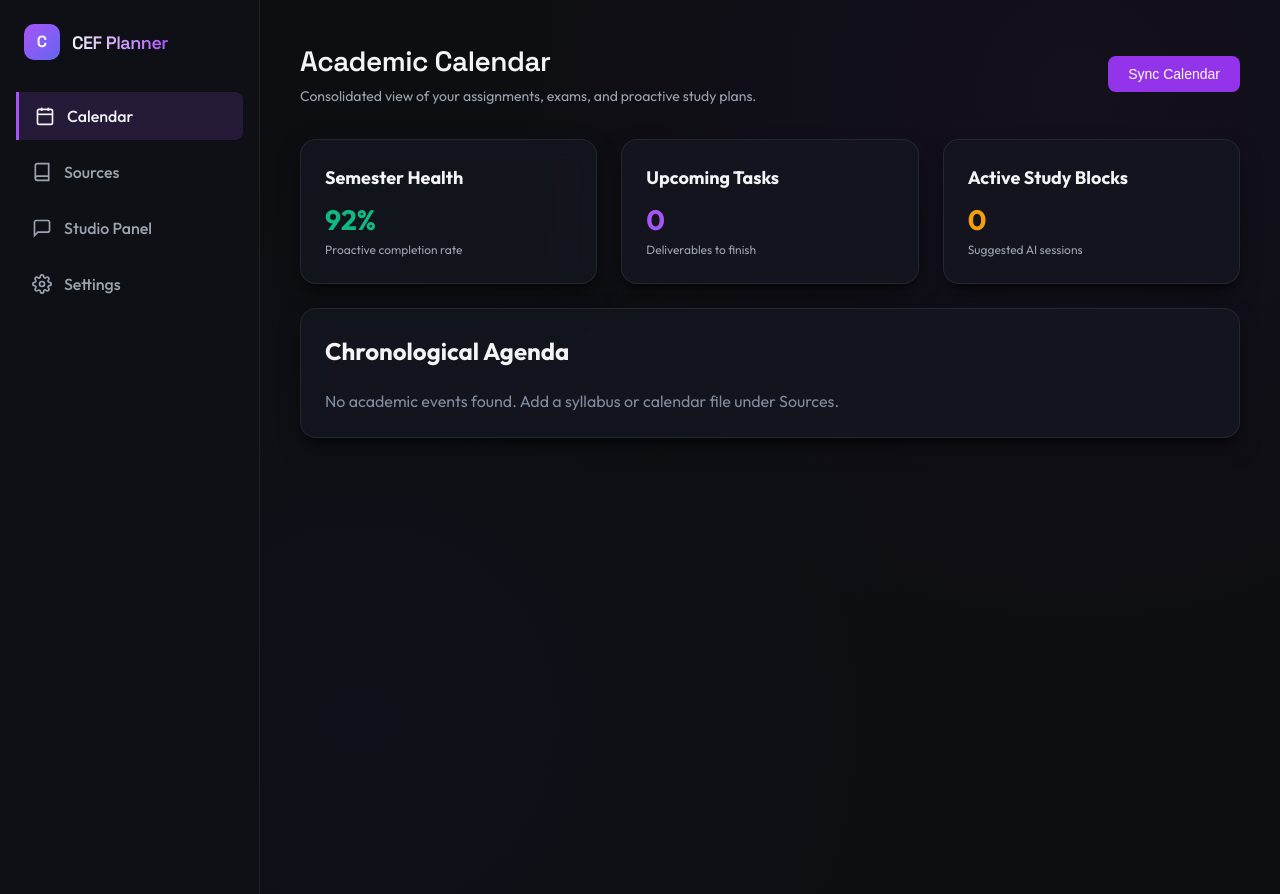
Create calendar modal — open state › has no axe violations
Expected: the heading "Academic Calendar" is shown, x1=300 y1=43 x2=551 y2=79
Click the button "Settings": (130, 284) x1=16 y1=260 x2=243 y2=308
(page scrolled)
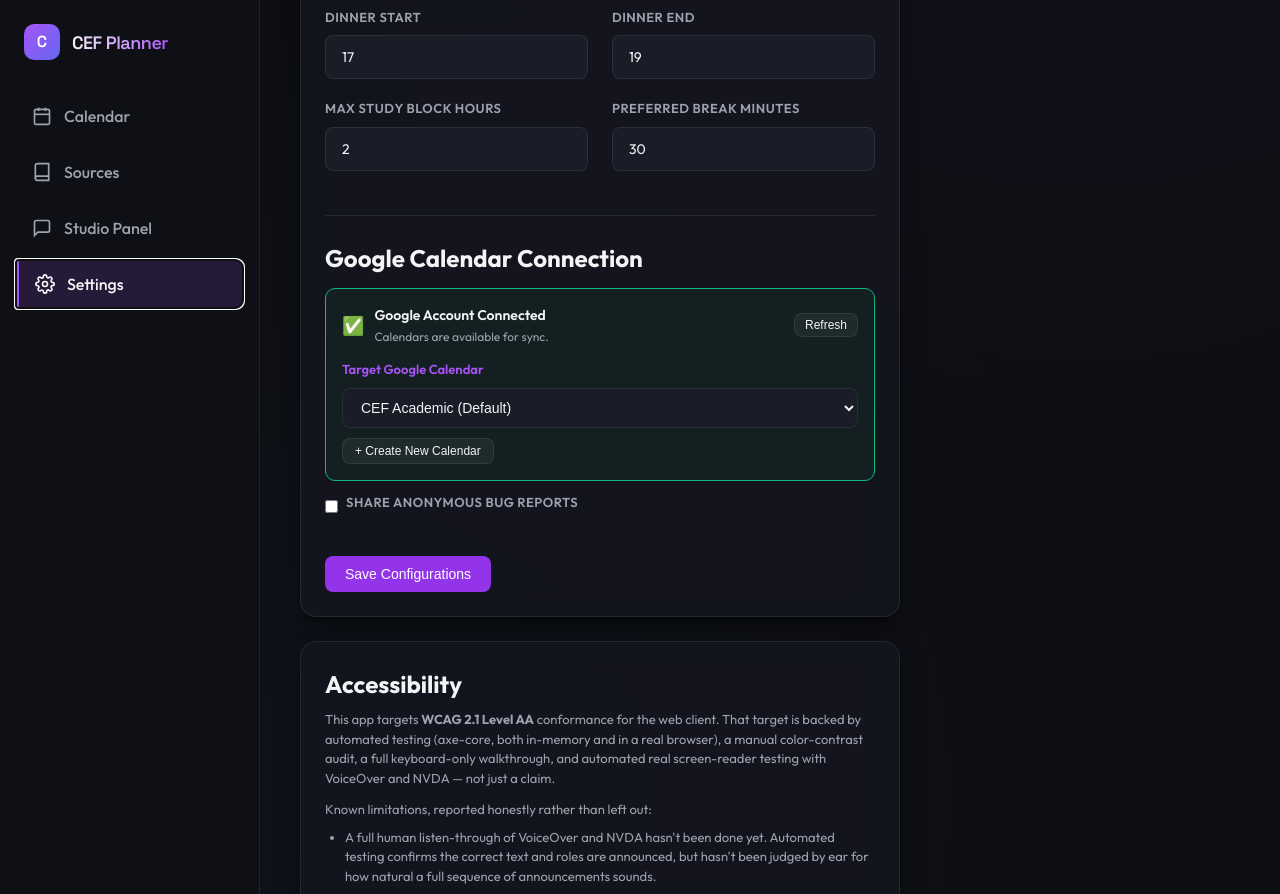
Click the button "+ Create New Calendar": (418, 450) x1=342 y1=438 x2=494 y2=464
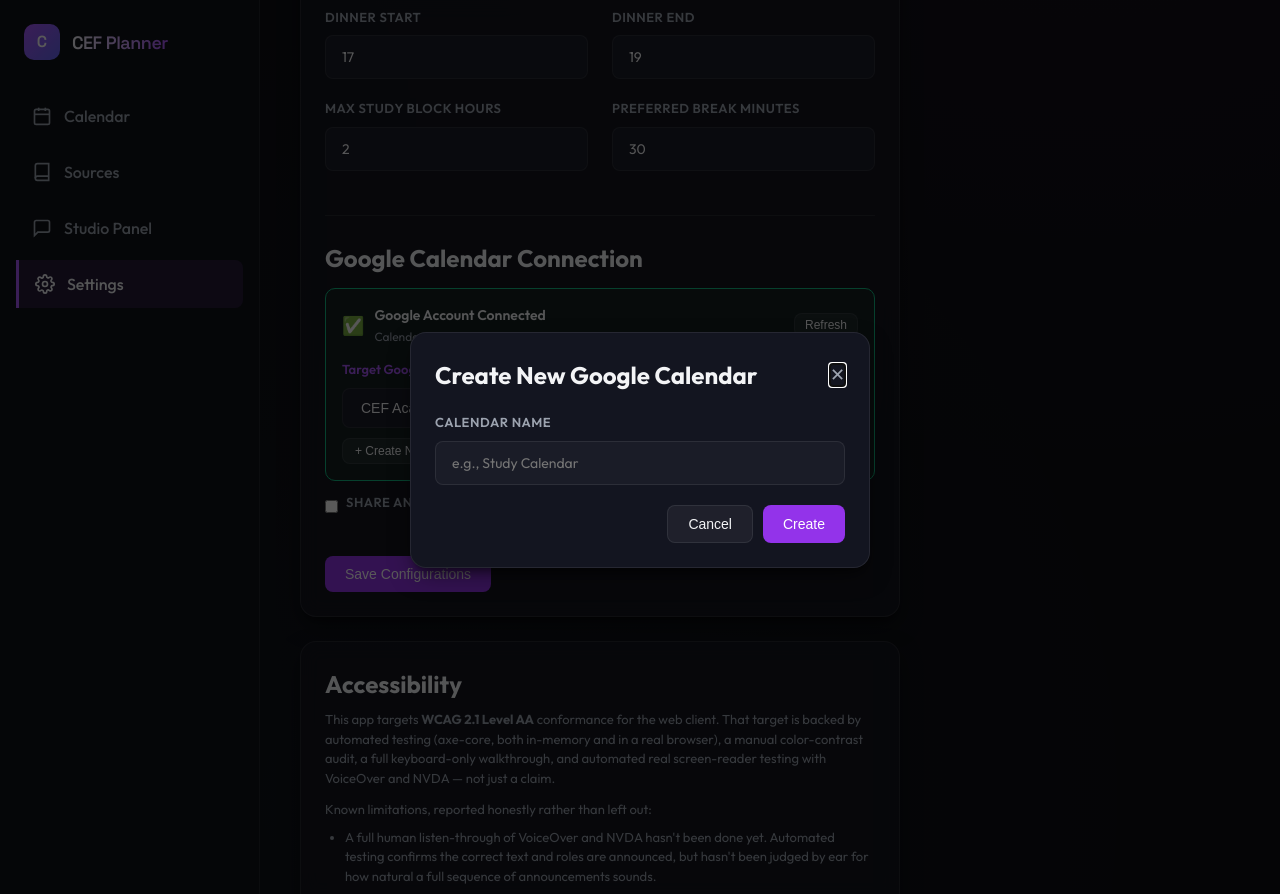
Expected: the heading "Create New Google Calendar" is shown, x1=435 y1=357 x2=758 y2=393
